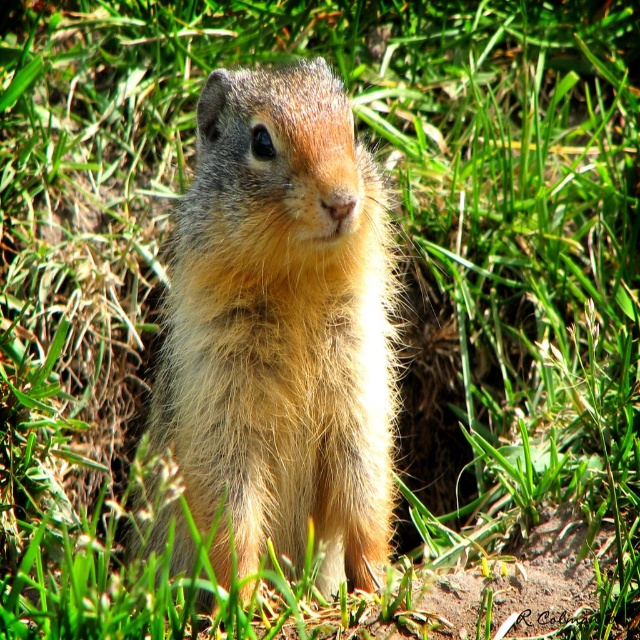Squirrel: (125, 55, 411, 619)
